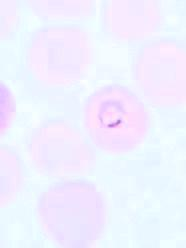Infected: (85, 86, 146, 152)
Uninfected: (39, 181, 108, 248), (26, 26, 92, 89), (33, 119, 95, 177), (134, 40, 186, 104)
